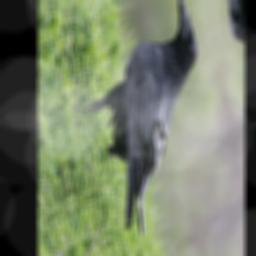Crow: (73, 0, 223, 254)
